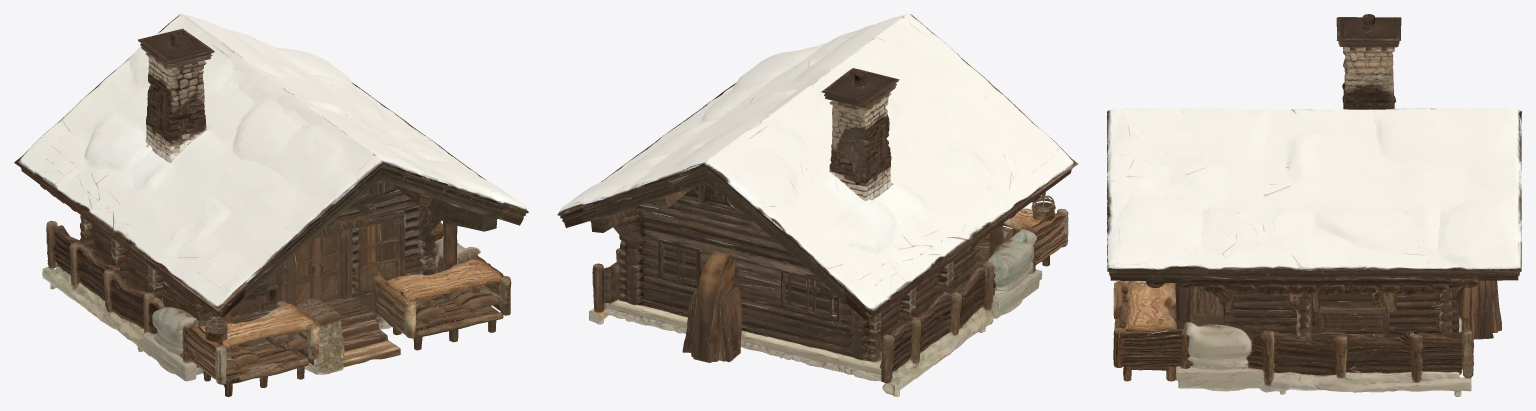
Rendered from mountain_hut.glb.
The picture shows the model from 3 angles, left to right: view 1: azimuth 30°, elevation 25°; view 2: azimuth 150°, elevation 25°; view 3: azimuth 270°, elevation 25°; orthographic projection. The views are drawn at different scales.
Size of the model in its own units: 1.72 by 1.38 by 1.9.
1 material, 1 textured.
